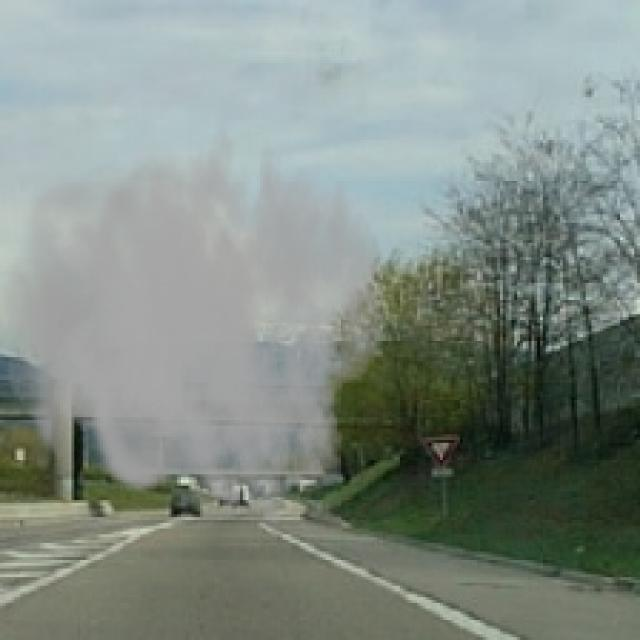smoke: (3, 103, 388, 528)
